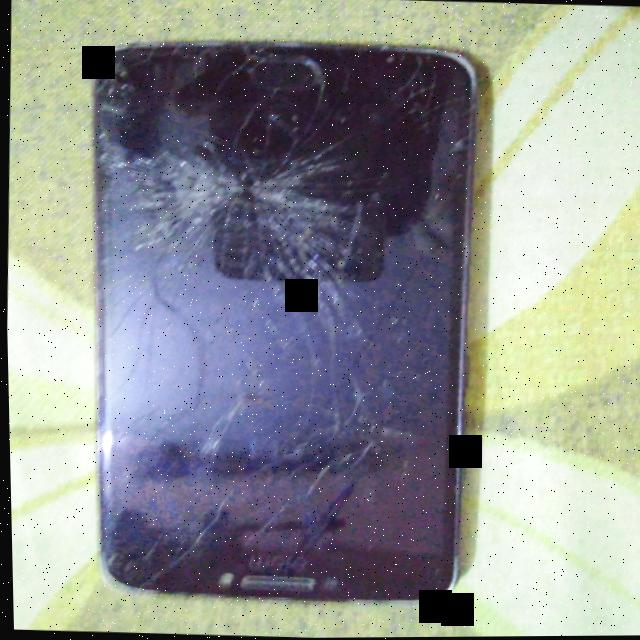Crack: (76, 38, 478, 598)
